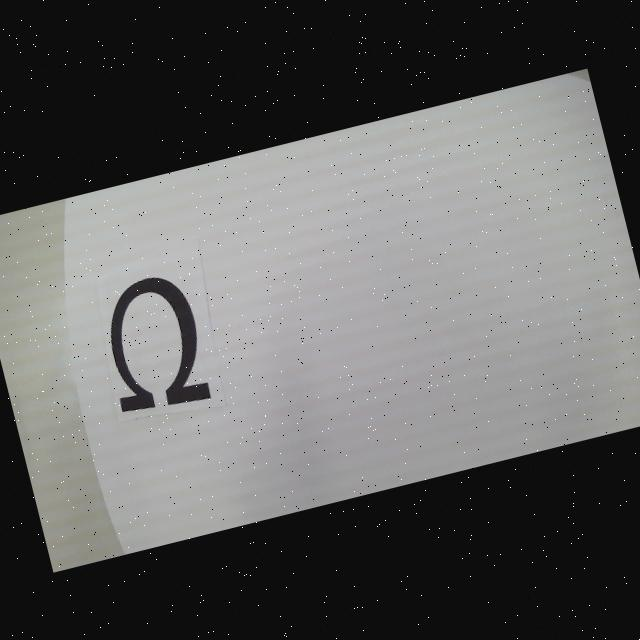OMEGA: (92, 268, 213, 418)
